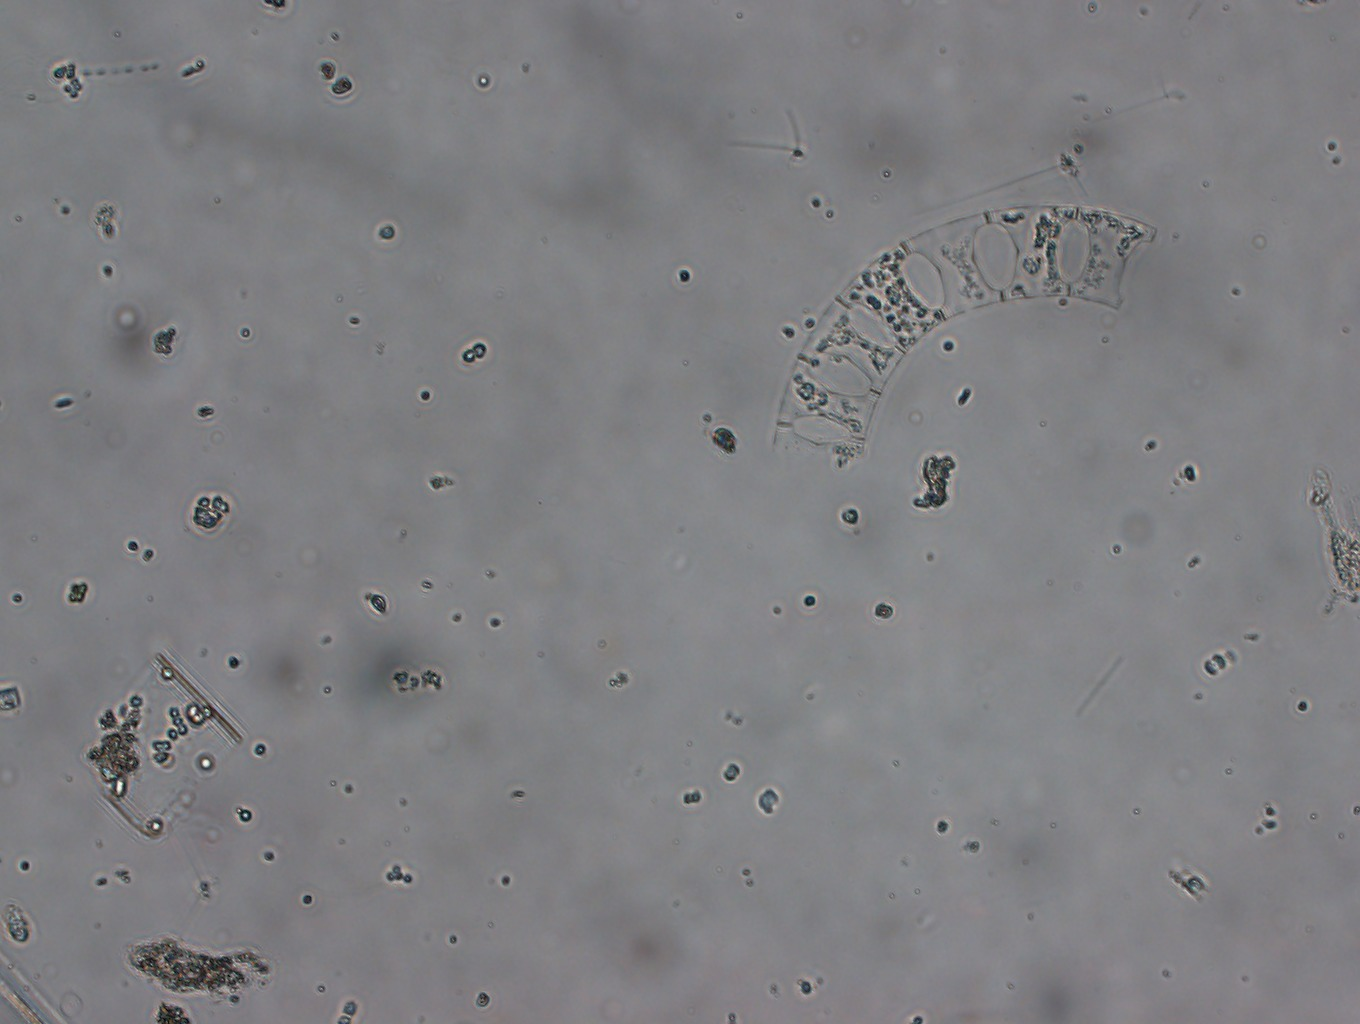eucampia: (762, 196, 1177, 483)
